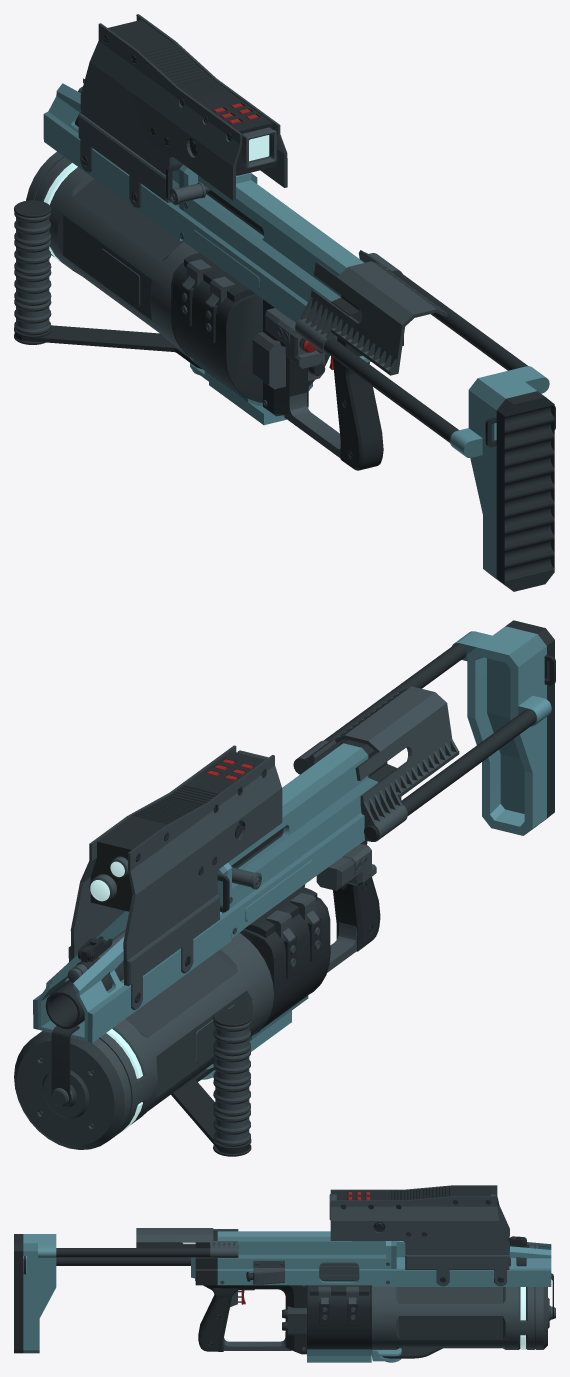
3 renders of one model, top to bottom at view 1: azimuth 30°, elevation 25°; view 2: azimuth 150°, elevation 25°; view 3: azimuth 270°, elevation 25°, orthographic. The views are drawn at different scales.
Visible parts, largest first — view 1: Cube.138, Cube.139, Cylinder.065, Cube.158, Cube.137, Cube.140, Cube.136, Cube.135, Cube.142, Cube.141, Cylinder.064, Cylinder.068 (+11 smaller); view 2: Cylinder.065, Cube.138, Cube.139, Cube.136, Cube.137, Cube.141, Cube.142, Cylinder.064, Cube.140, Cylinder.068, Cube.135, Cube.143 (+12 smaller); view 3: Cube.138, Cylinder.065, Cube.139, Cube.141, Cube.136, Cube.140, Cube.135, Cube.137, Cube.142, Cylinder.077, Cylinder.068, Cube.158 (+10 smaller).
Part boxes in pixels (<box>): Cube.138: <box>78,14,287,208</box>; Cube.139: <box>179,164,403,357</box>; Cylinder.065: <box>26,151,198,351</box>; Cube.158: <box>496,391,554,591</box>; Cube.137: <box>295,250,448,375</box>; Cube.140: <box>171,262,329,402</box>; Cube.136: <box>450,366,549,584</box>; Cube.135: <box>263,299,383,470</box>; Cube.142: <box>108,19,278,175</box>; Cube.141: <box>43,78,183,241</box>; Cylinder.064: <box>14,212,51,335</box>; Cylinder.068: <box>323,338,458,442</box>; Cylinder.065: <box>14,933,273,1149</box>; Cube.138: <box>68,745,282,1009</box>; Cube.139: <box>217,739,401,938</box>; Cube.136: <box>452,626,551,835</box>; Cube.137: <box>293,686,459,841</box>; Cube.141: <box>33,910,231,1042</box>; Cube.142: <box>90,751,265,911</box>; Cylinder.064: <box>213,1020,250,1146</box>; Cube.140: <box>240,897,330,1033</box>; Cylinder.068: <box>364,709,536,840</box>; Cube.135: <box>302,840,380,951</box>; Cube.143: <box>171,1067,250,1153</box>; Cube.138: <box>330,1185,509,1286</box>; Cylinder.065: <box>372,1285,552,1349</box>; Cube.139: <box>191,1231,396,1286</box>; Cube.141: <box>391,1241,551,1286</box>; Cube.136: <box>23,1234,56,1353</box>; Cube.140: <box>307,1285,371,1349</box>; Cube.135: <box>198,1285,306,1354</box>; Cube.137: <box>136,1228,238,1257</box>; Cube.142: <box>336,1186,490,1200</box>; Cylinder.077: <box>56,1248,210,1257</box>; Cylinder.068: <box>56,1257,190,1265</box>; Cube.158: <box>14,1234,23,1353</box>.
Bounding box in the file's own units: 303 × 469 × 1368.
